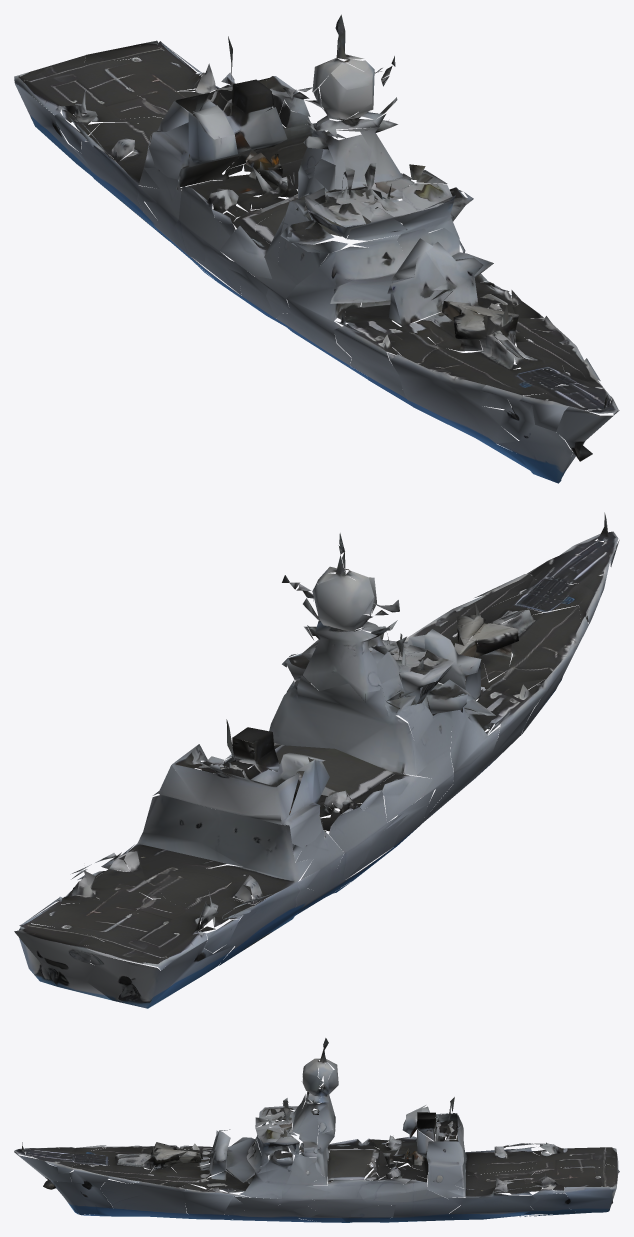
The model's file is frigate_lod1.glb.
The picture shows the model from 3 angles, top to bottom: view 1: azimuth 30°, elevation 25°; view 2: azimuth 150°, elevation 25°; view 3: azimuth 270°, elevation 25°; orthographic projection. The views are drawn at different scales.
Parts seen in each view (by area): view 1: body; view 2: body; view 3: body.
Part boxes in pixels (x1=…): body: x1=14, y1=14, x2=619, y2=483; body: x1=14, y1=512, x2=619, y2=1008; body: x1=14, y1=1038, x2=619, y2=1222.
Size of the model in its own units: 2.85 by 4.64 by 14.21.
Materials: 1 (1 with a texture image).
